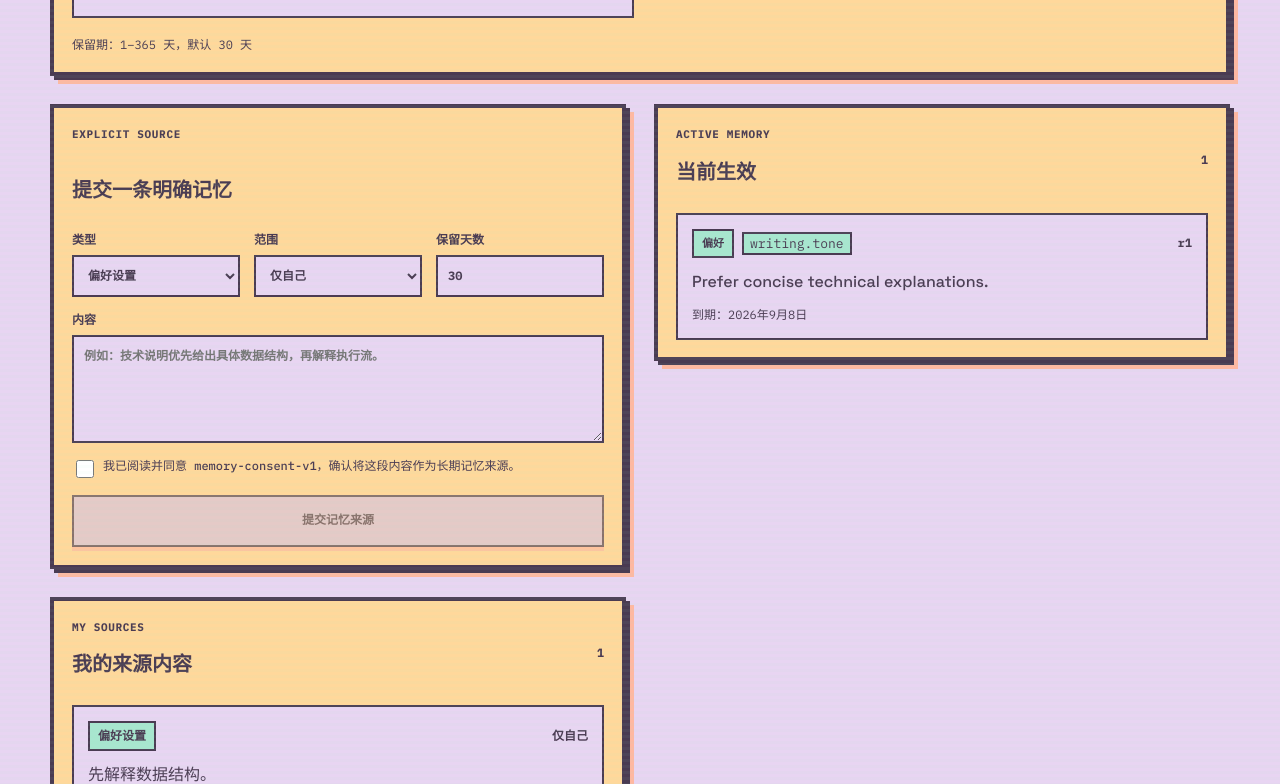
Test: Memory management workspace › requires visible policy confirmation before creating a signal
(page scrolled)
Expected: the button "提交记忆来源" is disabled, [72,494,604,546]
Type "以后先给具体例子。" into the text box labelled "内容" at (338, 388), box [72,334,604,442]
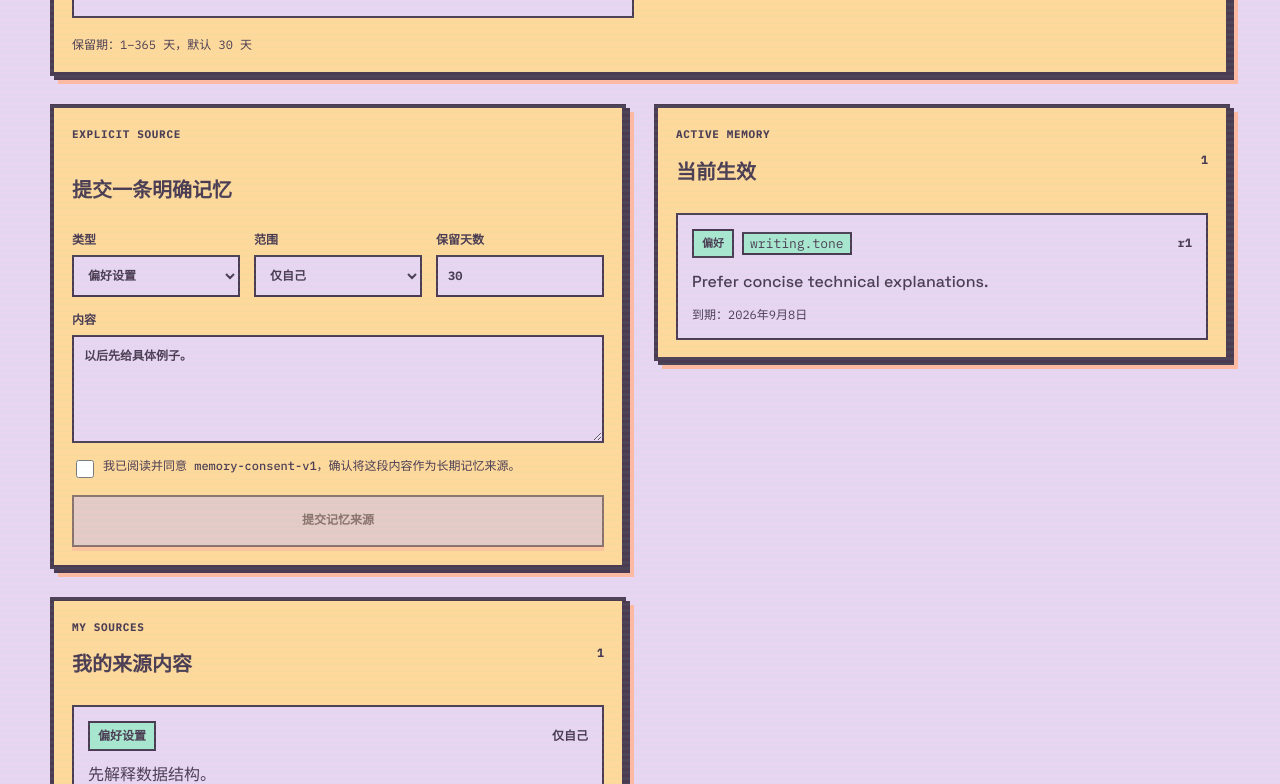
Click the checkbox at (85, 468), box [76,460,94,478]
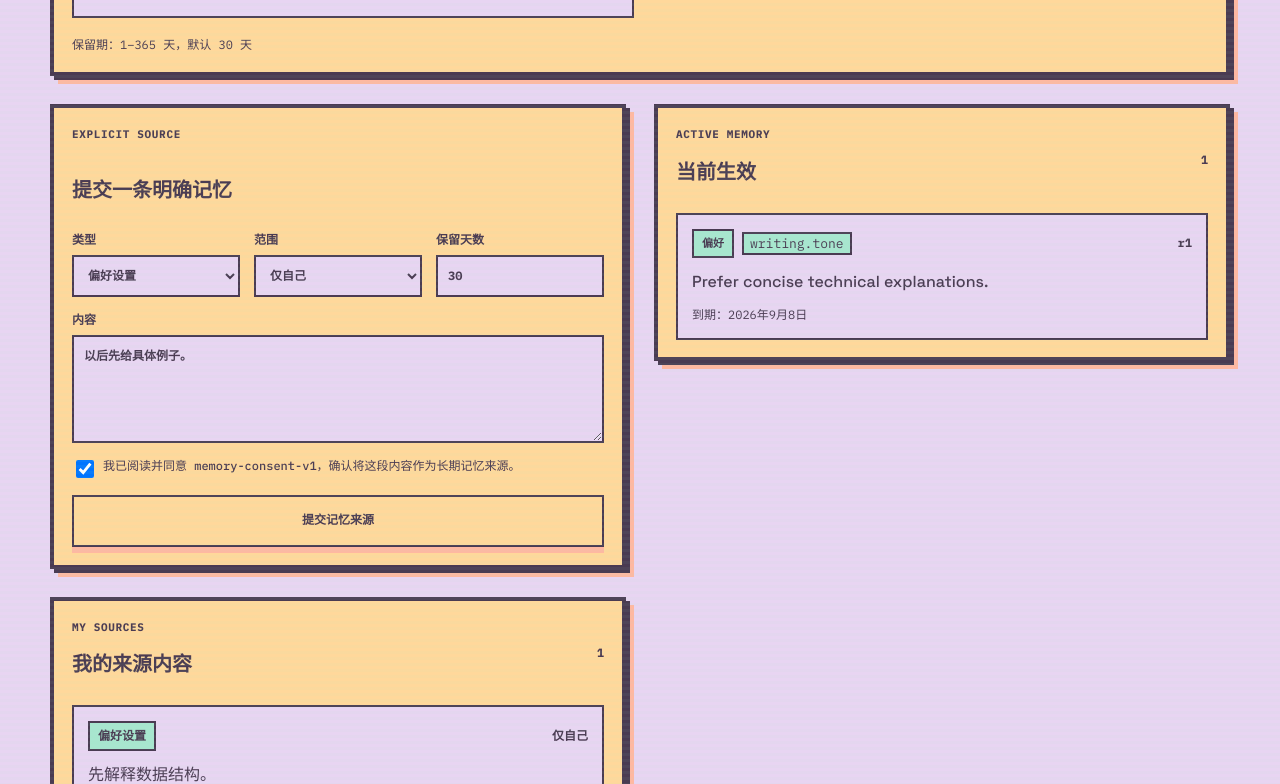
Expected: the button "提交记忆来源" is enabled
Click the button "提交记忆来源" at (338, 520), box [72,494,604,546]
(page scrolled)
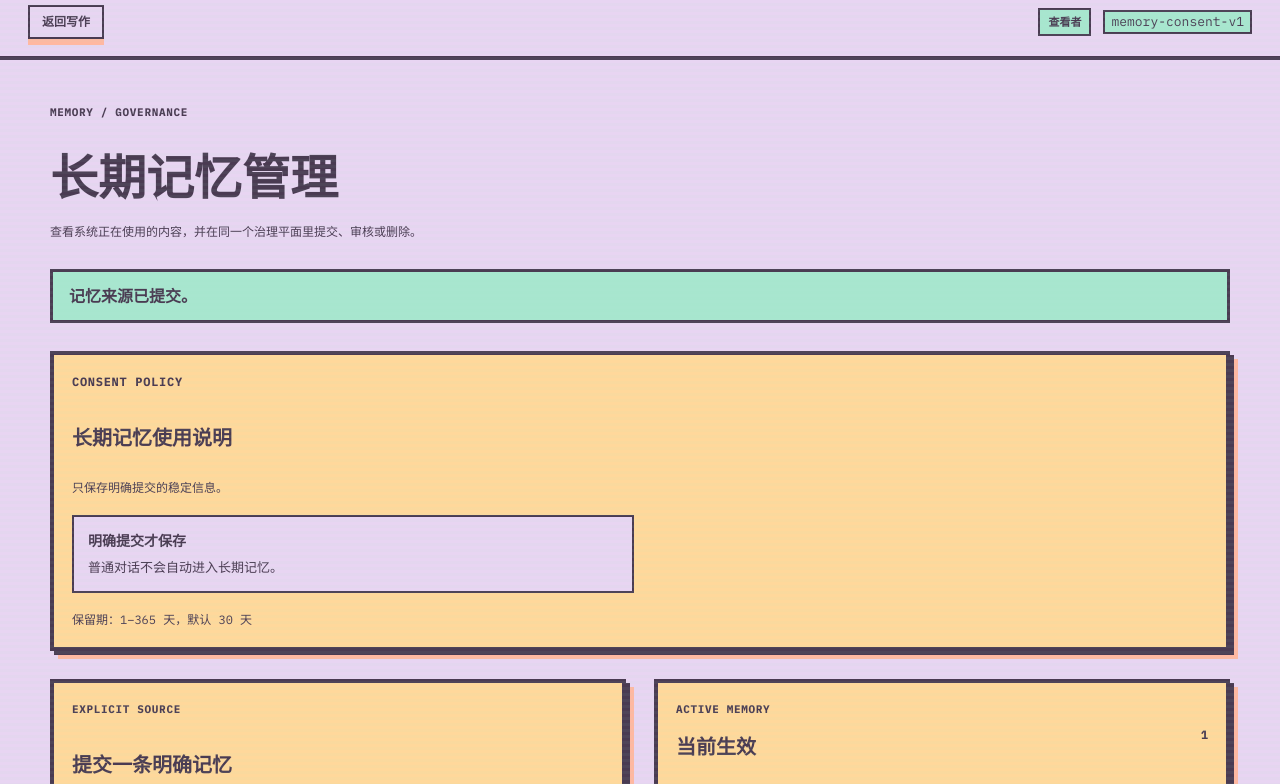
Expected: the text "记忆来源已提交。" is shown, [50,268,1230,322]
